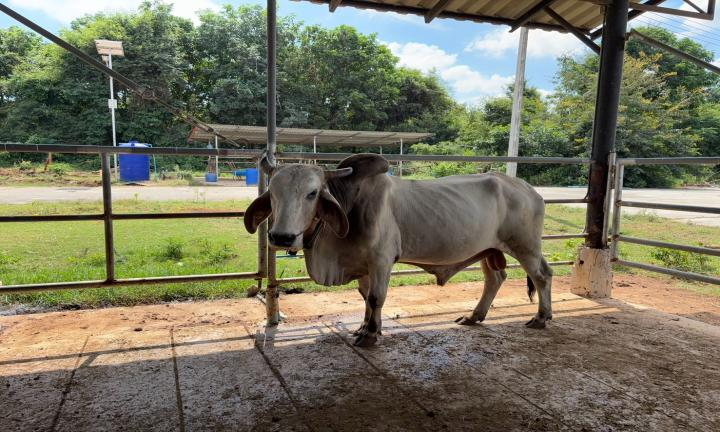Brahman: (244, 153, 552, 346)
